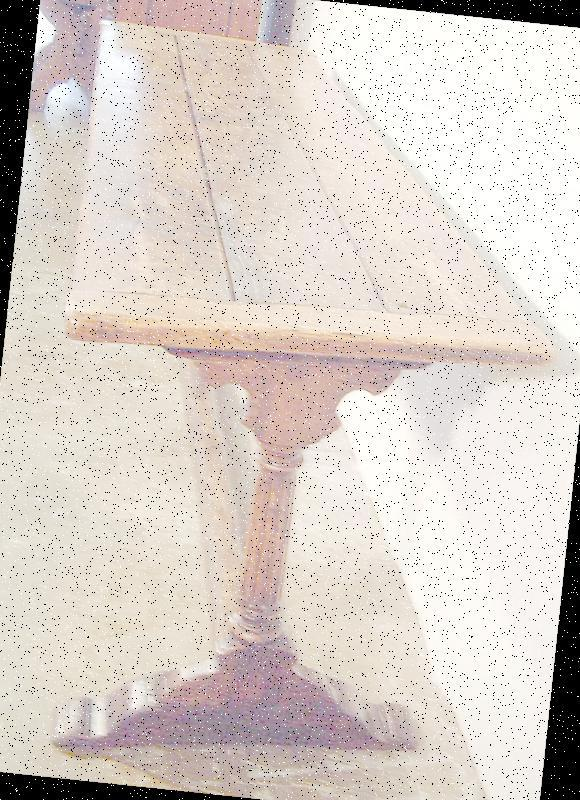Mesa: (21, 10, 579, 799)
